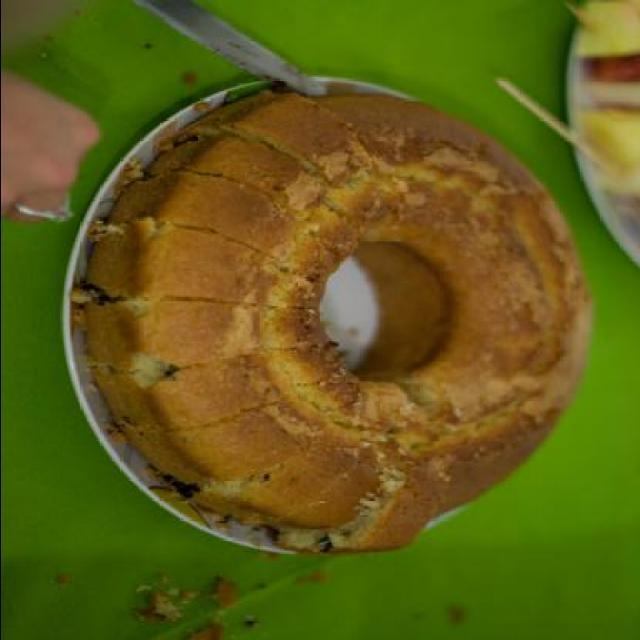Bread: (48, 88, 600, 550)
